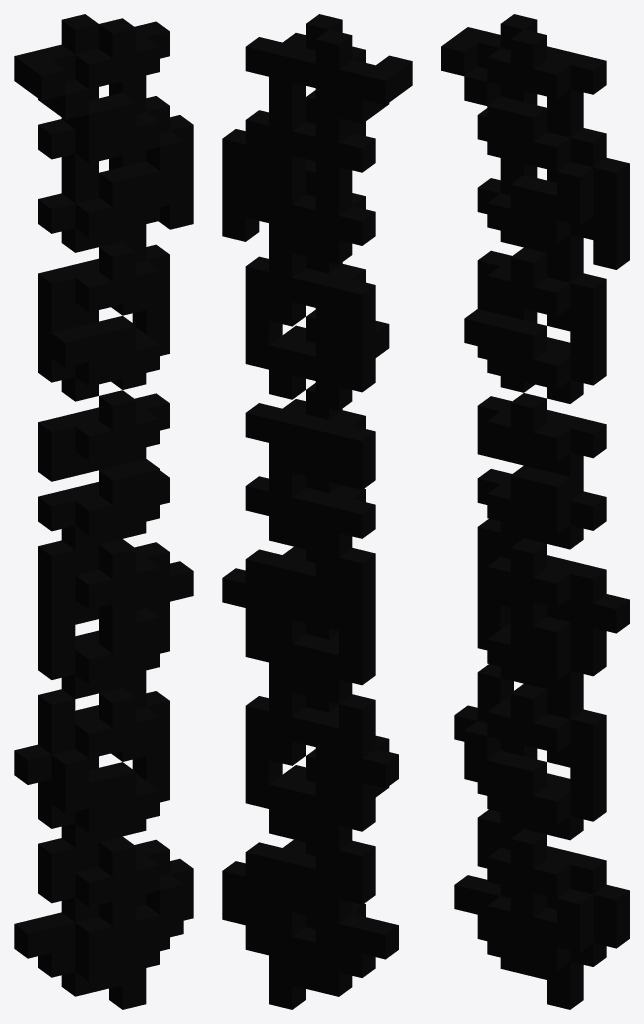
The model's file is ScrollBar.002.fbx.
3 views of the same model, side by side, from view 1: azimuth 30°, elevation 25°; view 2: azimuth 150°, elevation 25°; view 3: azimuth 330°, elevation 25° (orthographic). The views are drawn at different scales.
Visible parts, largest first — view 1: ScrollBar.002; view 2: ScrollBar.002; view 3: ScrollBar.002.
Part boxes in pixels (box(x1,y1,x2,y2)): ScrollBar.002: box(14, 14, 193, 1009); ScrollBar.002: box(222, 14, 412, 1009); ScrollBar.002: box(441, 14, 629, 1009).
Bounding box in the file's own units: 0.7 × 4 × 0.2.
